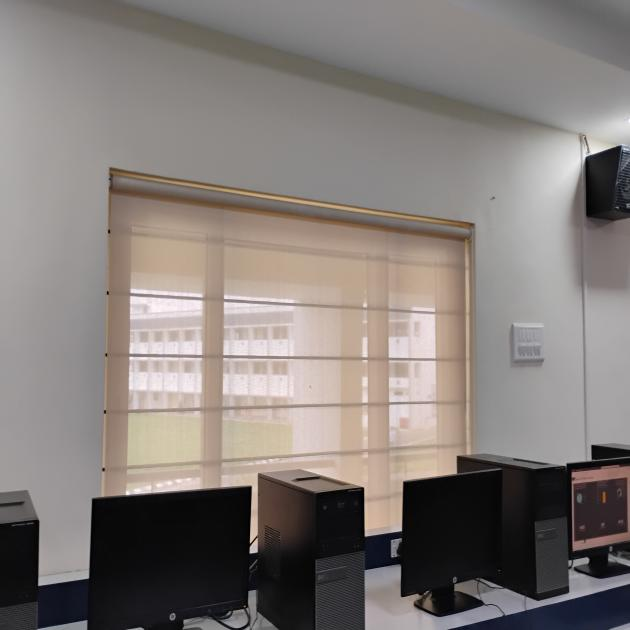computer: (85, 482, 264, 630), (396, 468, 515, 622)
cpu: (271, 471, 379, 630)
speaker: (567, 118, 630, 248)
windowscreen: (102, 139, 515, 464)
